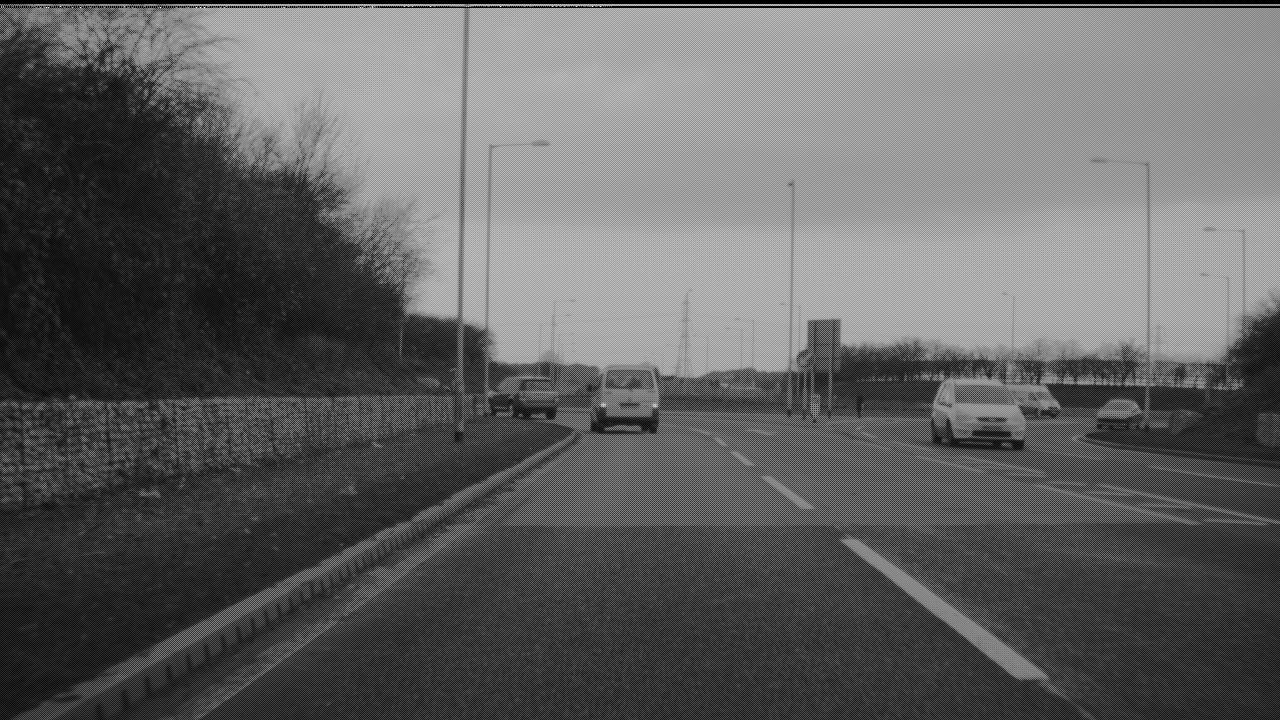pole: (811, 1, 827, 435), (788, 140, 797, 408), (130, 159, 138, 423), (487, 174, 495, 409)
